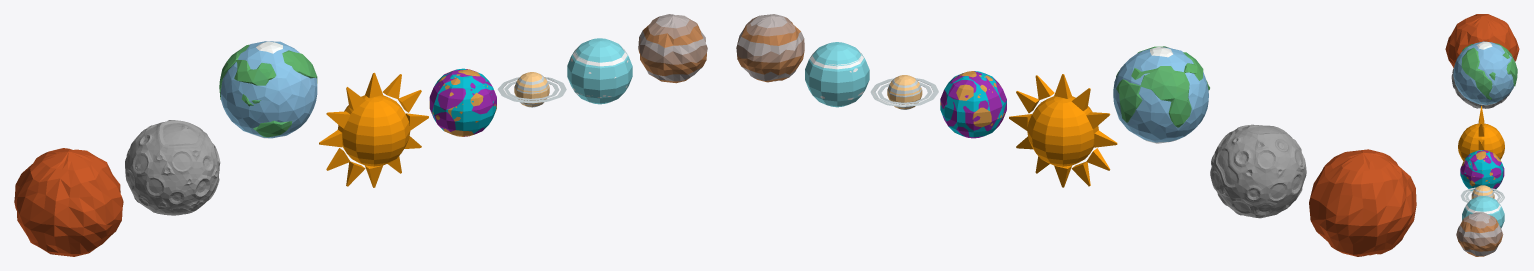
The model's file is planet.glb.
3 views of the same model, side by side, from view 1: azimuth 30°, elevation 25°; view 2: azimuth 150°, elevation 25°; view 3: azimuth 270°, elevation 25° (orthographic). The views are drawn at different scales.
Visible parts, largest first — view 1: Venus, Icosphere_Icosphere.001, Moon, Node, Jupiter, group646701568.002, group646701568, group646701568.001, group2013386449.001; view 2: Venus, Icosphere_Icosphere.001, Moon, Node, Jupiter, group646701568.002, group646701568, group646701568.001, group2013386449.001; view 3: Icosphere_Icosphere.001, Venus, Jupiter, group646701568.002, Node, group646701568, Moon, group646701568.001, group2013386449.001, group292618952.
Part boxes in pixels (x1=…): Venus: x1=14, y1=148, x2=123, y2=256; Icosphere_Icosphere.001: x1=219, y1=41, x2=317, y2=138; Moon: x1=125, y1=120, x2=220, y2=215; Node: x1=319, y1=72, x2=428, y2=187; Jupiter: x1=638, y1=14, x2=707, y2=83; group646701568.002: x1=429, y1=68, x2=496, y2=136; group646701568: x1=567, y1=38, x2=632, y2=104; group646701568.001: x1=514, y1=72, x2=549, y2=107; group2013386449.001: x1=497, y1=77, x2=566, y2=103; Venus: x1=1309, y1=149, x2=1416, y2=256; Icosphere_Icosphere.001: x1=1113, y1=46, x2=1209, y2=143; Moon: x1=1210, y1=124, x2=1306, y2=218; Node: x1=1009, y1=74, x2=1117, y2=187; Jupiter: x1=736, y1=14, x2=804, y2=82; group646701568.002: x1=940, y1=71, x2=1006, y2=138; group646701568: x1=805, y1=42, x2=869, y2=107; group646701568.001: x1=887, y1=75, x2=922, y2=109; group2013386449.001: x1=870, y1=78, x2=938, y2=106; Icosphere_Icosphere.001: x1=1453, y1=41, x2=1517, y2=105; Venus: x1=1445, y1=14, x2=1519, y2=67; Jupiter: x1=1456, y1=212, x2=1503, y2=256; group646701568.002: x1=1460, y1=150, x2=1504, y2=190; Node: x1=1458, y1=106, x2=1504, y2=160; group646701568: x1=1462, y1=196, x2=1504, y2=228; Moon: x1=1451, y1=68, x2=1510, y2=108; group646701568.001: x1=1471, y1=185, x2=1494, y2=198; group2013386449.001: x1=1460, y1=187, x2=1504, y2=202; group292618952: x1=1465, y1=190, x2=1500, y2=201.
Size of the model in its own units: 30.52 by 7.12 by 4.42.
12 materials, 4 textured.
